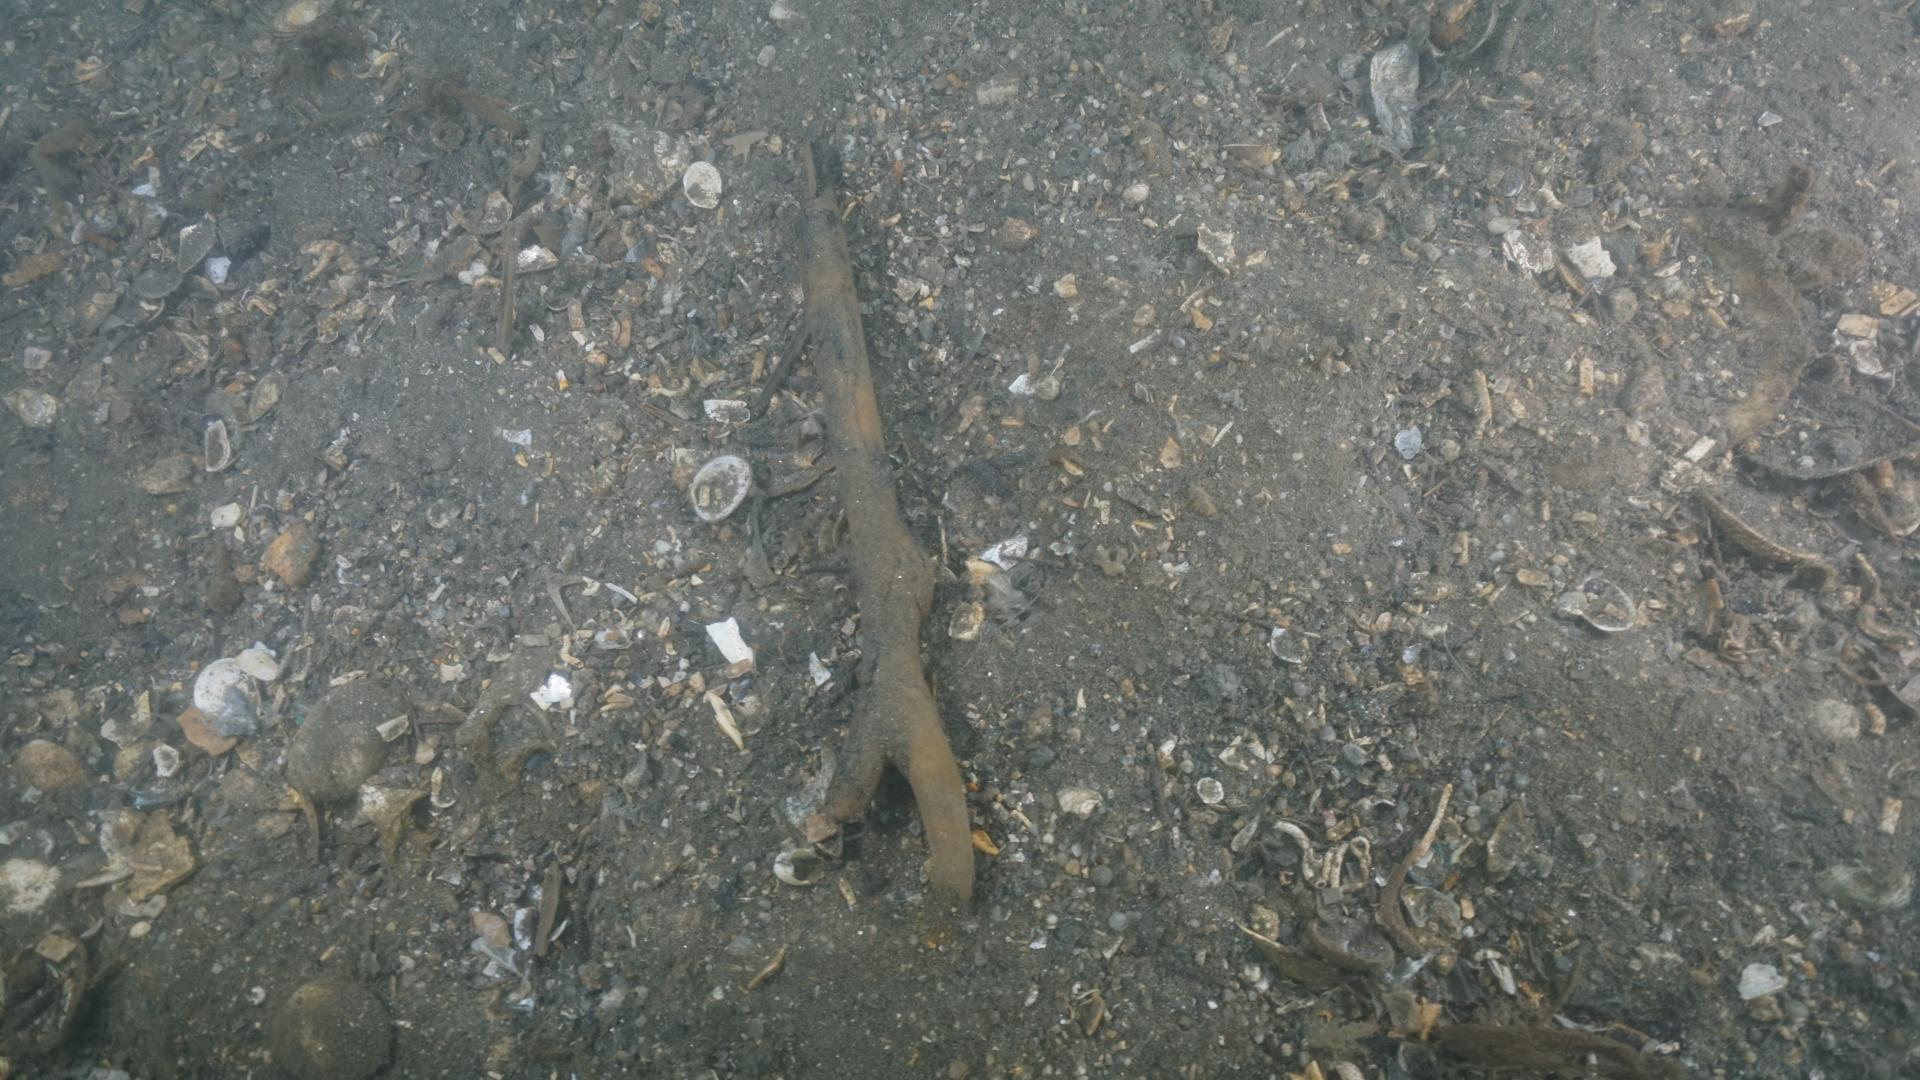wood: (790, 148, 977, 907)
